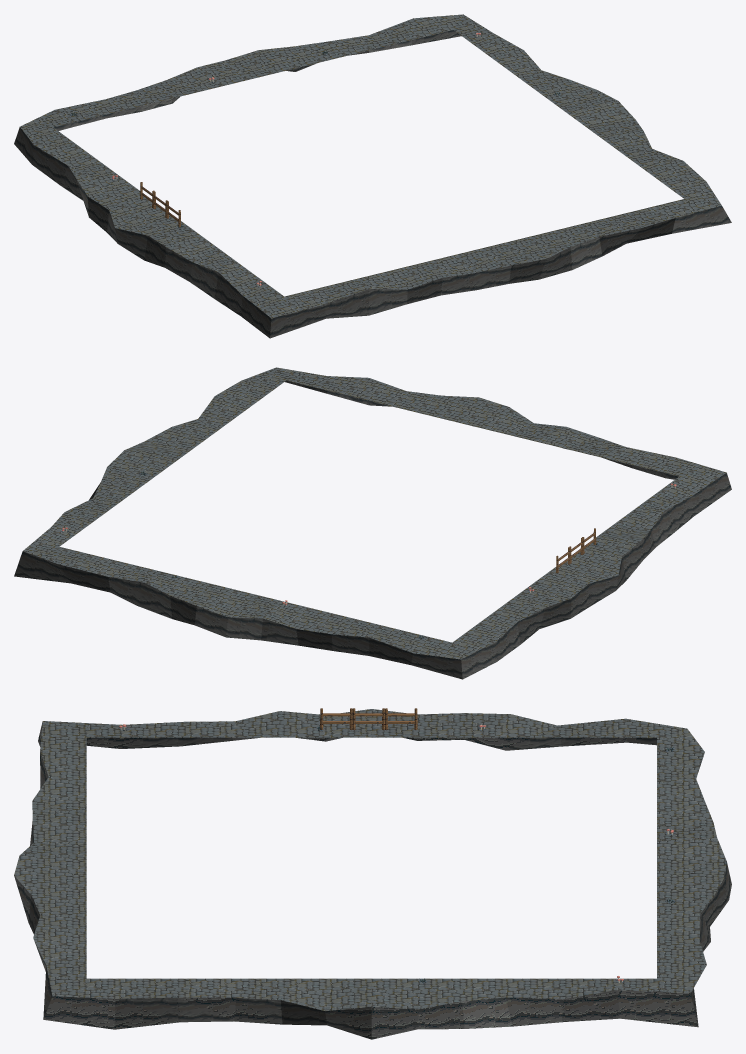
File: entorno_16.glb
The picture shows the model from 3 angles, top to bottom: view 1: azimuth 30°, elevation 25°; view 2: azimuth 150°, elevation 25°; view 3: azimuth 270°, elevation 25°; orthographic projection. The views are drawn at different scales.
Parts seen in each view (by area): view 1: pedreira_entorno_16; view 2: pedreira_entorno_16; view 3: pedreira_entorno_16.
Boxes of the visible parts, left/top/right/bottom form: pedreira_entorno_16: left=14, top=14, right=731, bottom=338; pedreira_entorno_16: left=14, top=367, right=731, bottom=679; pedreira_entorno_16: left=14, top=708, right=731, bottom=1039.
Size of the model in its own units: 20.59 by 1.7 by 20.39.
7 materials, 5 textured.
